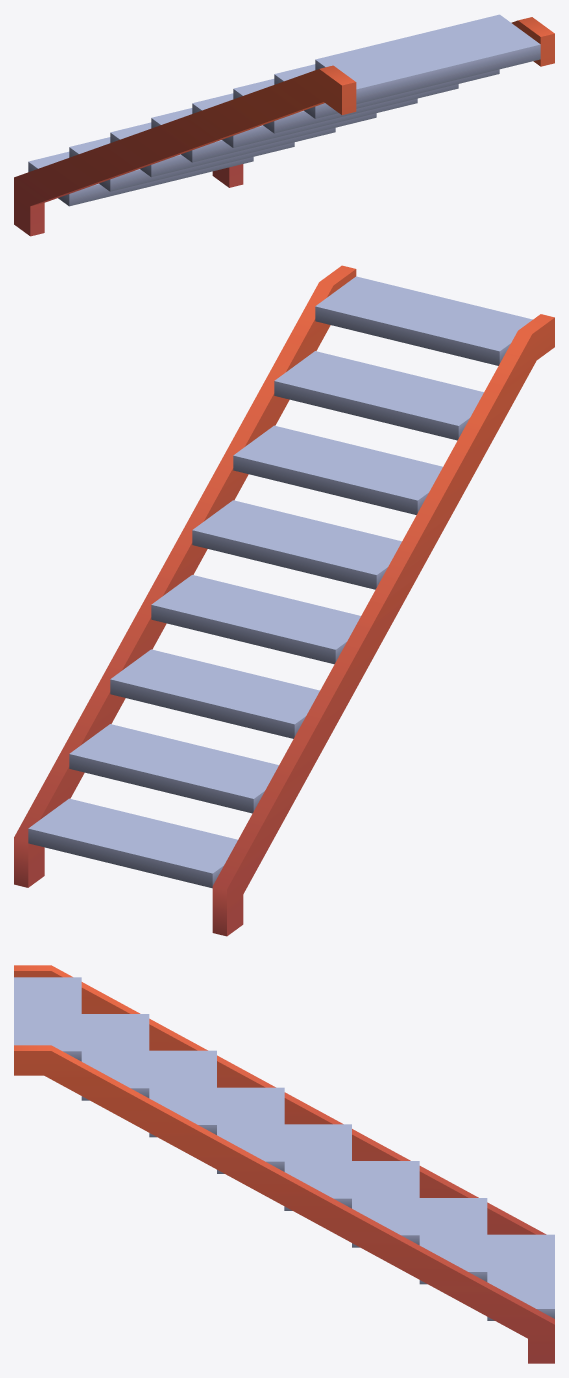
Rendered from kenney-building-stairs-sides.glb.
3 renders of one model, top to bottom at view 1: azimuth 30°, elevation 25°; view 2: azimuth 150°, elevation 25°; view 3: azimuth 270°, elevation 25°, orthographic. The views are drawn at different scales.
Parts seen in each view (by area): view 1: stairs-sides; view 2: stairs-sides; view 3: stairs-sides.
Boxes of the visible parts, x1=… form: stairs-sides: x1=14, y1=14, x2=554, y2=236; stairs-sides: x1=14, y1=265, x2=554, y2=936; stairs-sides: x1=14, y1=965, x2=554, y2=1363.
Size of the model in its own units: 1.5 by 2.55 by 4.
1 material, 1 textured.
